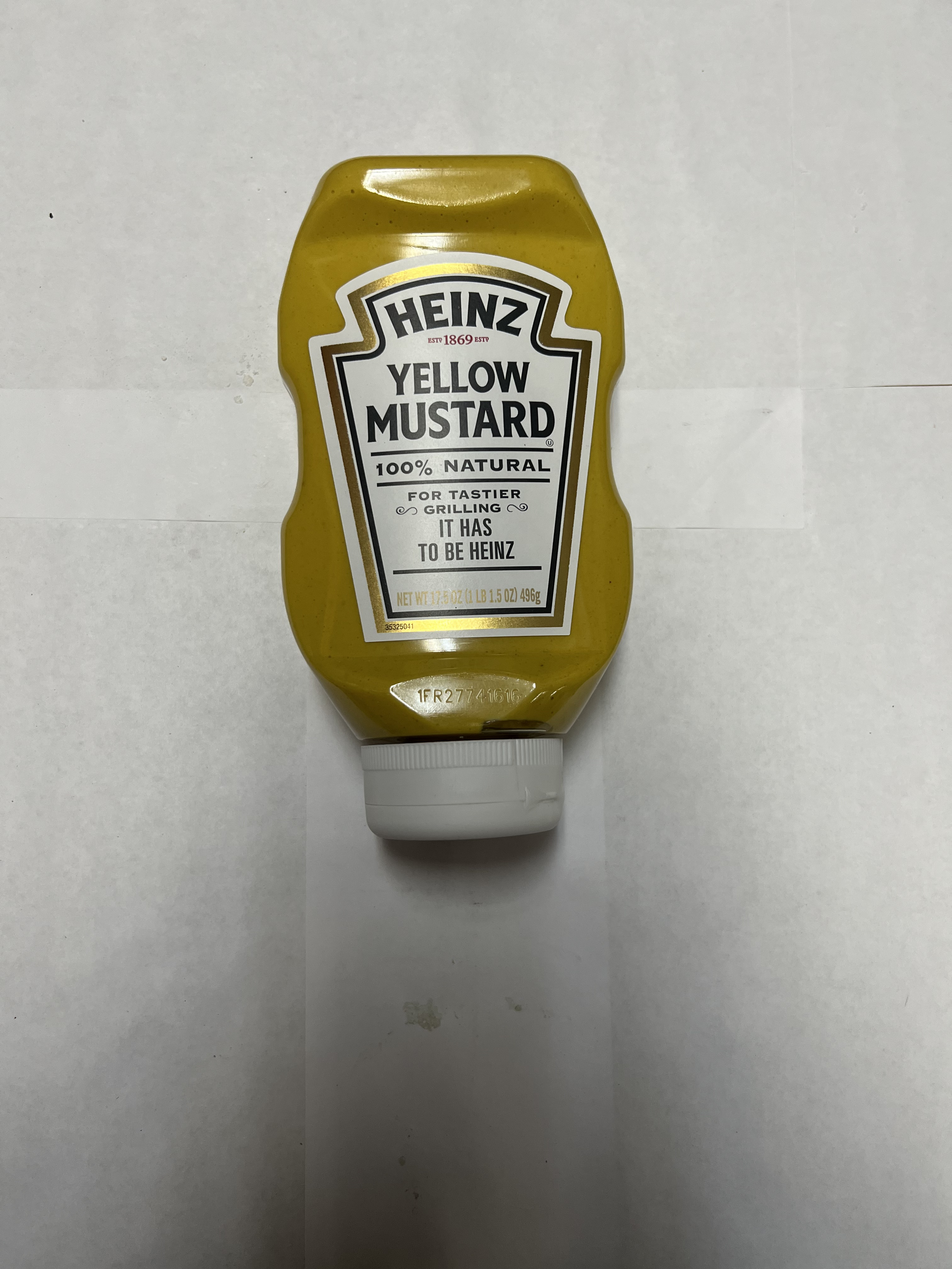packaged: (272, 150, 640, 848)
